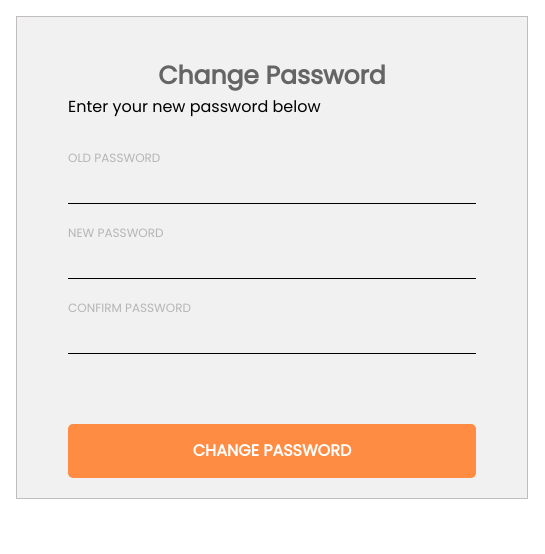
Test: should test  change password component › should test same passwords
Type "Qwert@12" into the password field with test id "oldpassword". click: (272,181)
box: [68, 158, 476, 204]
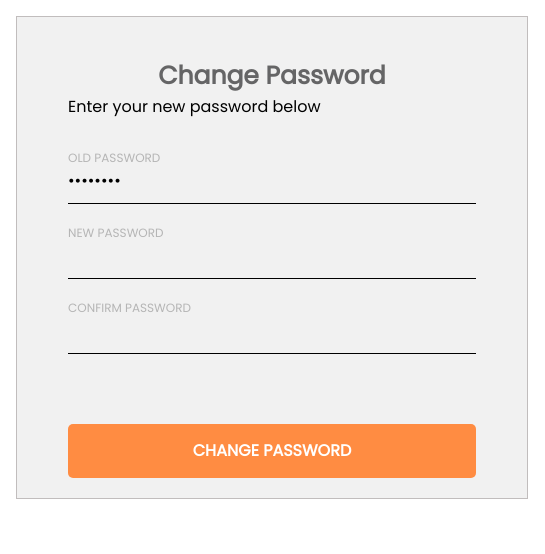
Type "Pass@12345" into the password field with test id "newpassword". click: (272,256)
box: [68, 234, 476, 278]
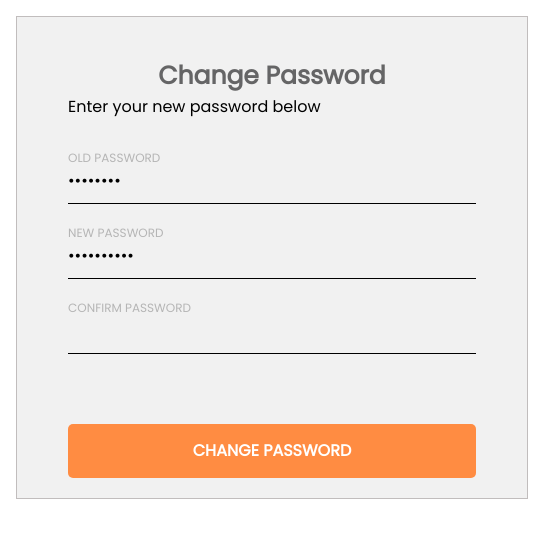
Type "Pass@1234567" into the password field with test id "confirmpassword". click: (272,331)
box: [68, 308, 476, 354]
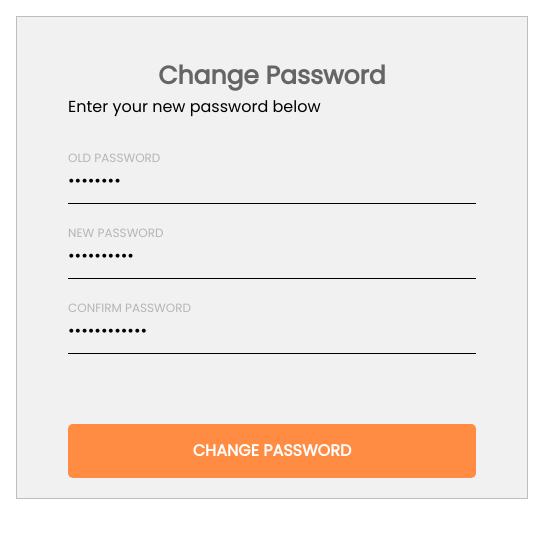
Click the button "CHANGE PASSWORD". click: (272,450)
box: [68, 424, 476, 478]
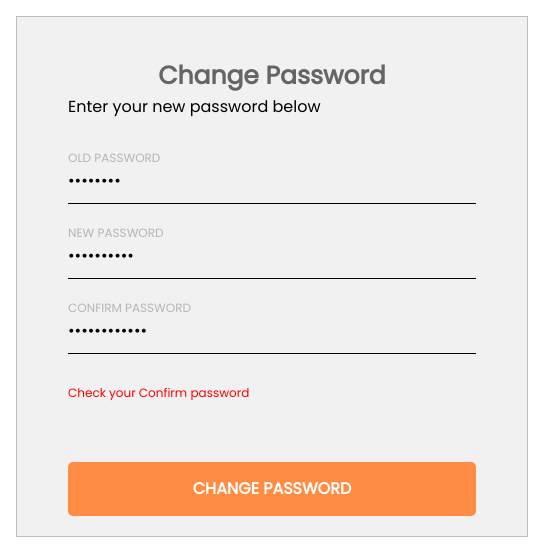
Check: the text with test id "div3" reads "Check your Confirm password", box [68, 384, 249, 400]
